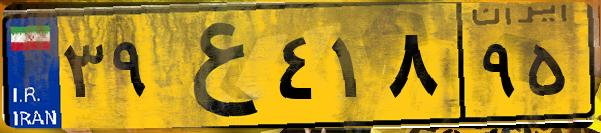1: (330, 28, 385, 110)
3: (57, 26, 110, 100)
4: (270, 28, 330, 110)
5: (525, 38, 570, 115)
8: (385, 28, 445, 110)
9: (475, 38, 525, 113), (110, 28, 158, 98)
ع: (158, 12, 270, 120)
